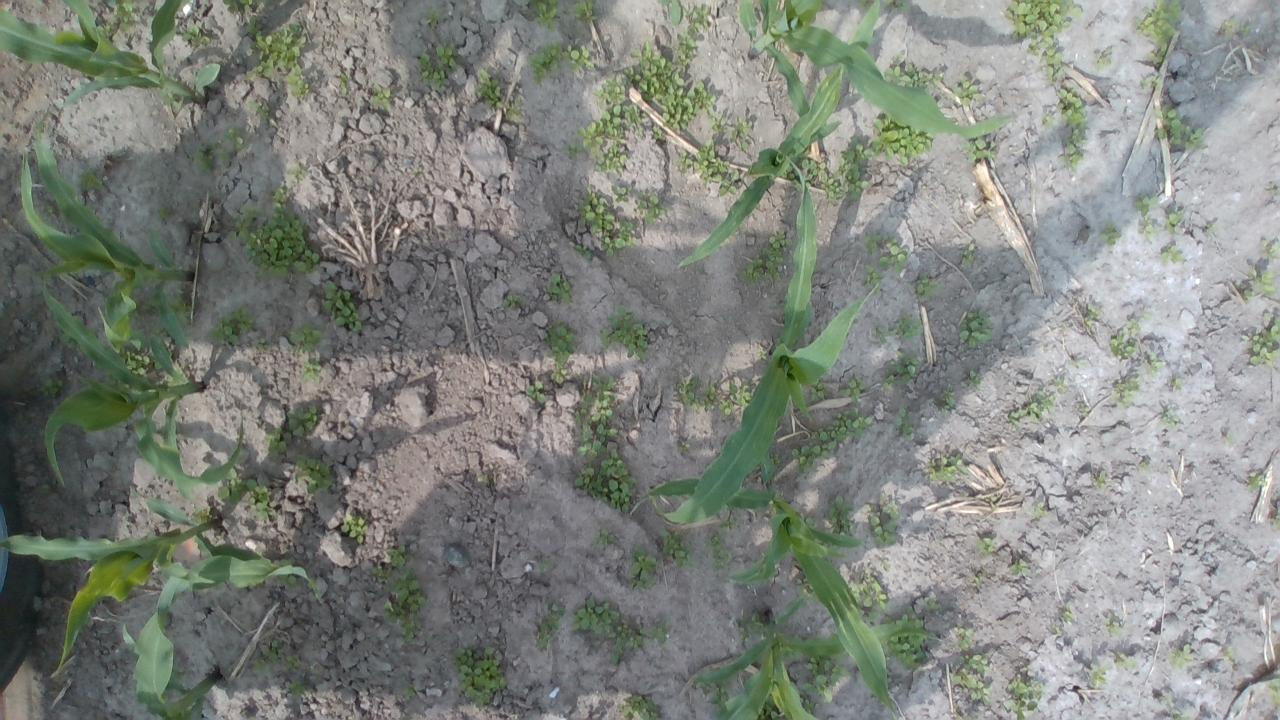Maize: (650, 166, 859, 528), (625, 471, 897, 720), (674, 0, 882, 273), (36, 274, 242, 502), (1, 496, 220, 682), (18, 136, 195, 354), (740, 0, 1006, 136), (122, 553, 324, 720), (0, 0, 220, 121), (698, 610, 924, 720)
Weeds: (598, 33, 717, 139), (228, 203, 322, 279), (1004, 0, 1084, 81), (792, 409, 874, 475), (372, 544, 426, 640), (575, 186, 640, 258), (672, 370, 756, 422), (244, 14, 306, 80), (574, 447, 635, 514), (570, 373, 618, 458), (676, 138, 740, 197), (598, 303, 658, 364), (451, 644, 508, 706), (872, 111, 935, 167), (528, 38, 596, 86), (739, 229, 794, 288), (1135, 0, 1182, 65), (842, 559, 890, 620), (1054, 86, 1088, 172), (215, 468, 271, 520), (836, 143, 880, 202), (796, 656, 849, 704), (1154, 103, 1208, 148), (321, 280, 368, 330), (542, 318, 577, 385), (574, 594, 620, 642), (206, 302, 256, 346), (882, 60, 944, 94), (293, 452, 338, 496), (418, 42, 458, 90), (866, 491, 899, 546), (657, 527, 699, 568), (1009, 388, 1054, 426), (1250, 312, 1280, 368), (1005, 677, 1043, 720), (111, 346, 162, 378), (628, 545, 662, 593), (780, 158, 826, 192), (537, 601, 567, 651), (889, 632, 928, 669), (566, 120, 603, 158), (194, 140, 232, 176), (1106, 320, 1140, 360), (959, 310, 994, 348), (1242, 266, 1280, 300), (952, 672, 992, 704), (589, 141, 627, 174), (736, 610, 770, 645), (926, 454, 968, 482), (829, 496, 857, 538), (703, 680, 732, 720), (613, 626, 642, 666), (336, 508, 368, 544), (474, 68, 503, 107), (619, 692, 658, 720), (105, 0, 138, 33), (286, 323, 322, 353), (961, 134, 999, 162), (911, 271, 944, 303), (247, 98, 280, 130), (636, 190, 665, 226), (706, 532, 734, 568), (544, 272, 573, 306), (879, 238, 907, 273), (1115, 375, 1143, 410), (952, 76, 984, 106), (894, 350, 922, 384), (130, 298, 162, 326), (682, 4, 711, 34), (254, 639, 280, 672), (286, 63, 312, 96), (894, 312, 924, 340), (288, 406, 318, 434), (264, 428, 292, 458), (77, 166, 107, 194), (531, 0, 558, 31), (222, 124, 250, 153), (821, 175, 846, 207), (731, 116, 753, 152), (180, 22, 210, 48), (1160, 695, 1190, 720), (838, 374, 865, 401), (636, 624, 672, 644), (571, 0, 598, 24), (370, 82, 393, 110), (895, 406, 914, 439), (861, 263, 884, 290), (960, 652, 991, 672), (760, 695, 784, 720), (1136, 194, 1160, 218), (660, 0, 682, 26), (38, 376, 66, 396), (708, 110, 728, 138), (1166, 207, 1186, 234), (1158, 244, 1184, 264), (1224, 15, 1248, 36), (1102, 224, 1122, 248), (302, 357, 322, 381), (864, 231, 883, 255), (1085, 304, 1104, 328), (219, 0, 256, 12), (1095, 48, 1113, 72), (1267, 672, 1280, 705), (954, 626, 974, 647), (1090, 664, 1106, 690), (336, 70, 352, 96), (504, 96, 522, 119), (1174, 644, 1190, 669), (966, 368, 984, 390), (976, 536, 998, 554), (1148, 350, 1164, 374), (528, 380, 544, 404), (1140, 221, 1159, 241), (160, 90, 180, 109), (960, 243, 974, 270), (808, 379, 825, 401), (884, 0, 912, 13), (798, 696, 817, 715), (1114, 654, 1138, 669), (278, 572, 298, 590), (254, 336, 274, 354), (902, 606, 924, 622), (283, 654, 302, 672), (163, 367, 184, 383), (800, 579, 816, 600), (718, 518, 739, 534), (1140, 75, 1162, 90), (193, 506, 211, 524), (1162, 410, 1180, 428), (272, 184, 290, 202), (286, 680, 306, 696), (425, 6, 441, 26), (1263, 239, 1280, 257), (504, 293, 524, 308), (170, 664, 185, 684), (150, 326, 170, 341), (942, 389, 956, 410), (1011, 560, 1029, 576), (592, 529, 610, 545), (1106, 619, 1122, 636), (800, 512, 816, 529), (882, 370, 894, 392), (1246, 474, 1263, 489), (44, 197, 59, 214), (1062, 601, 1074, 622), (155, 206, 169, 224), (1041, 114, 1056, 130), (1094, 470, 1106, 489), (288, 164, 304, 178), (1221, 646, 1234, 662), (768, 452, 782, 466), (1268, 182, 1280, 198), (1032, 505, 1046, 518), (856, 0, 876, 9), (1056, 378, 1068, 393), (756, 348, 768, 362), (539, 559, 553, 571), (678, 441, 691, 453), (34, 123, 47, 135), (882, 615, 896, 626), (1138, 460, 1150, 472), (879, 330, 890, 342), (1224, 433, 1234, 446), (925, 600, 938, 610), (1172, 376, 1181, 390), (274, 559, 288, 568), (974, 574, 984, 585), (1080, 406, 1090, 416), (407, 688, 418, 696), (1206, 224, 1216, 232), (1052, 624, 1062, 632), (143, 0, 150, 10)
